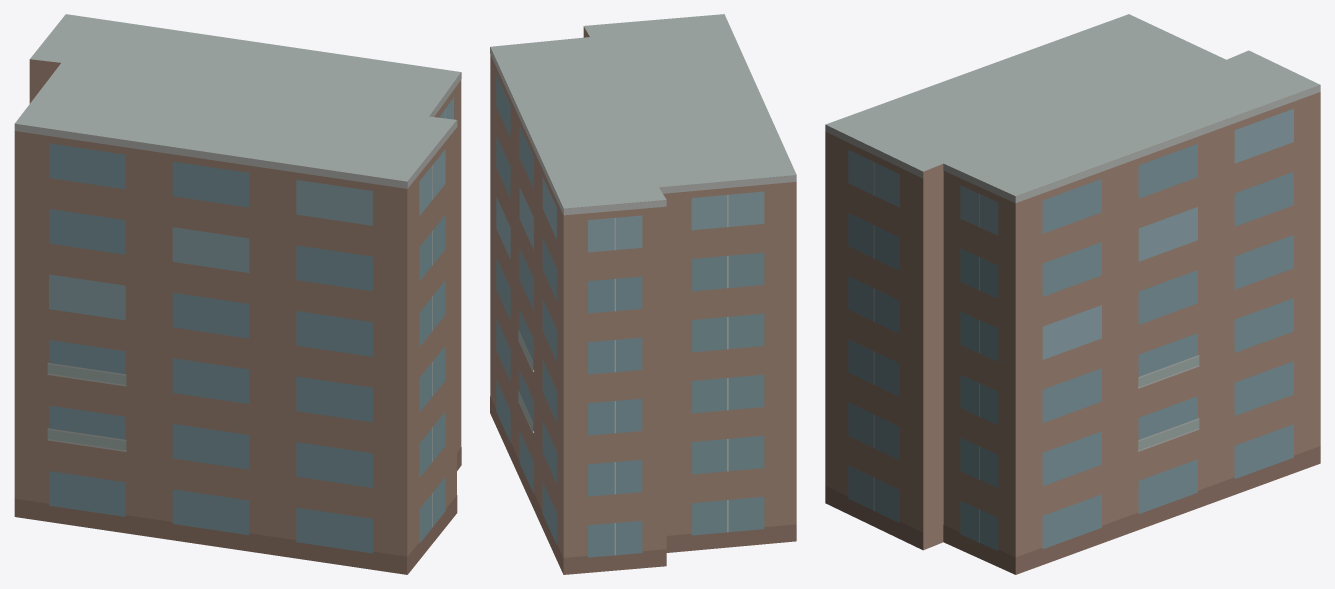
The model's file is survey-upis-32946416.glb.
The picture shows the model from 3 angles, left to right: view 1: azimuth 30°, elevation 25°; view 2: azimuth 150°, elevation 25°; view 3: azimuth 270°, elevation 25°; orthographic projection. The views are drawn at different scales.
Visible parts, largest first — view 1: survey-upis-32946416.tmp; view 2: survey-upis-32946416.tmp; view 3: survey-upis-32946416.tmp.
Part boxes in pixels (left/top/right/bottom): survey-upis-32946416.tmp: left=14, top=14, right=461, bottom=574; survey-upis-32946416.tmp: left=490, top=14, right=796, bottom=574; survey-upis-32946416.tmp: left=825, top=14, right=1320, bottom=574.
Bounding box in the file's own units: 13.63 × 13.2 × 15.66.
